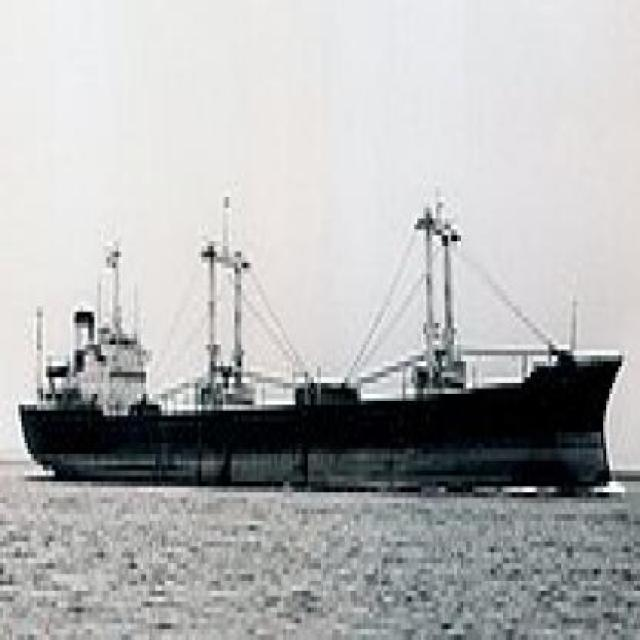container: (13, 170, 632, 515)
